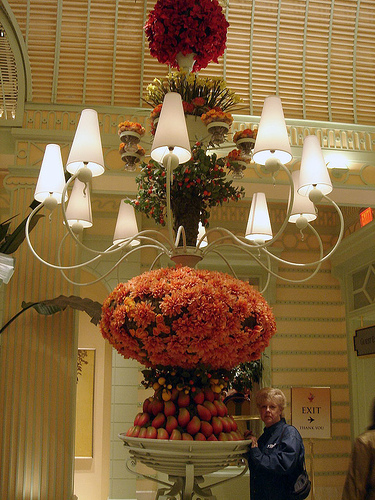without_mask: (256, 393, 285, 426)
